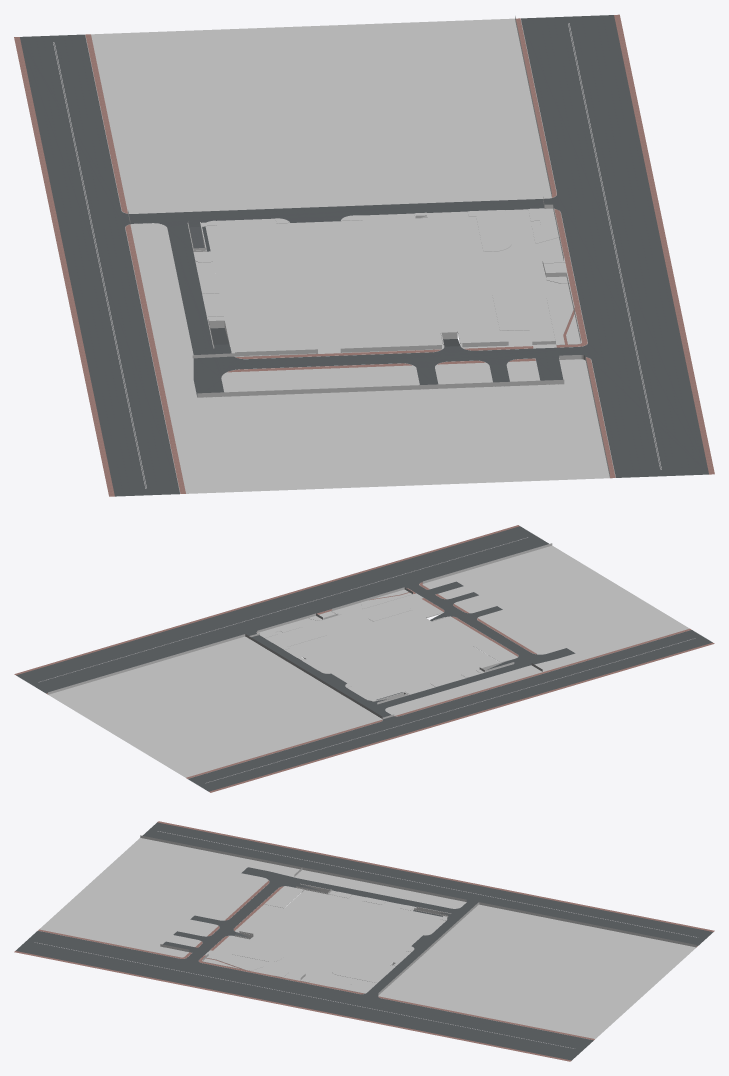
The picture shows the model from 3 angles, top to bottom: view 1: azimuth 30°, elevation 25°; view 2: azimuth 150°, elevation 25°; view 3: azimuth 270°, elevation 25°; orthographic projection. The views are drawn at different scales.
Parts seen in each view (by area): view 1: ____06, ____05, DX, ____07; view 2: ____06, ____05, DX, ____07; view 3: ____06, ____05, DX, ____07.
Boxes of the visible parts, <box> form: ____06: <box>91,18,609,493</box>; ____05: <box>20,15,708,496</box>; DX: <box>53,16,661,493</box>; ____07: <box>14,14,714,496</box>; ____06: <box>48,545,689,777</box>; ____05: <box>16,526,712,791</box>; DX: <box>38,537,695,783</box>; ____07: <box>14,525,714,792</box>; ____06: <box>39,838,696,1038</box>; ____05: <box>15,822,713,1060</box>; DX: <box>34,831,697,1048</box>; ____07: <box>14,821,714,1061</box>.
Size of the model in its own units: 432 by 5.26 by 532.
Materials: 4 (2 with a texture image).
